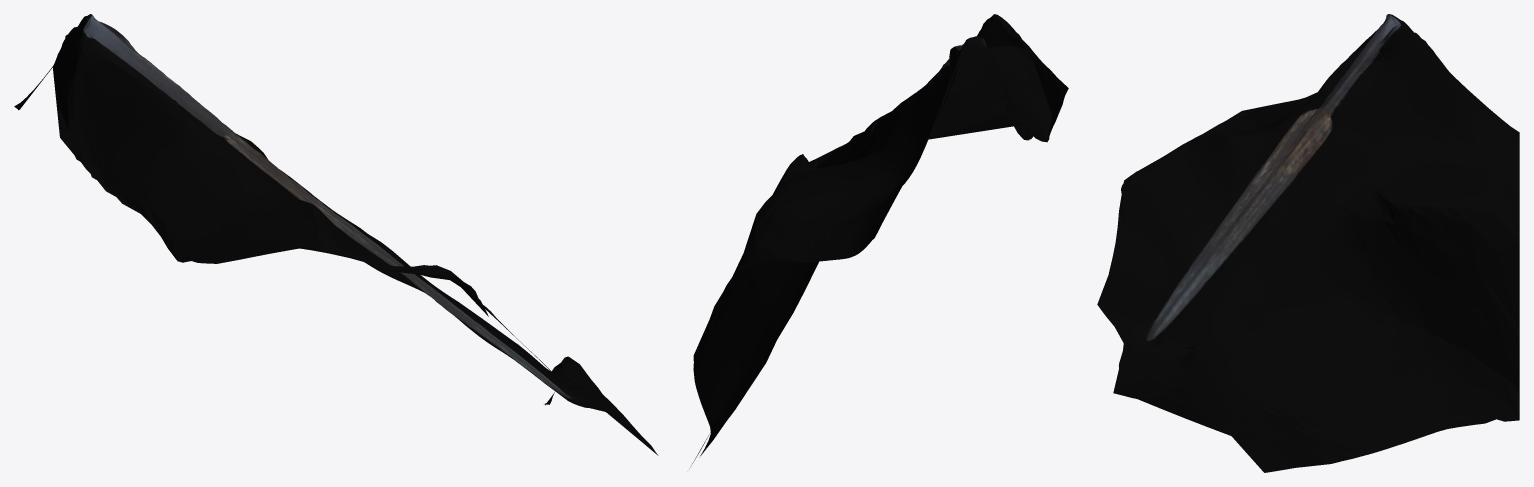
File: knife1.glb
3 views of the same model, side by side, from view 1: azimuth 30°, elevation 25°; view 2: azimuth 150°, elevation 25°; view 3: azimuth 270°, elevation 25° (orthographic). The views are drawn at different scales.
Bounding box in the file's own units: 0.8312 × 0.8822 × 1.03.
1 material, 1 textured.
